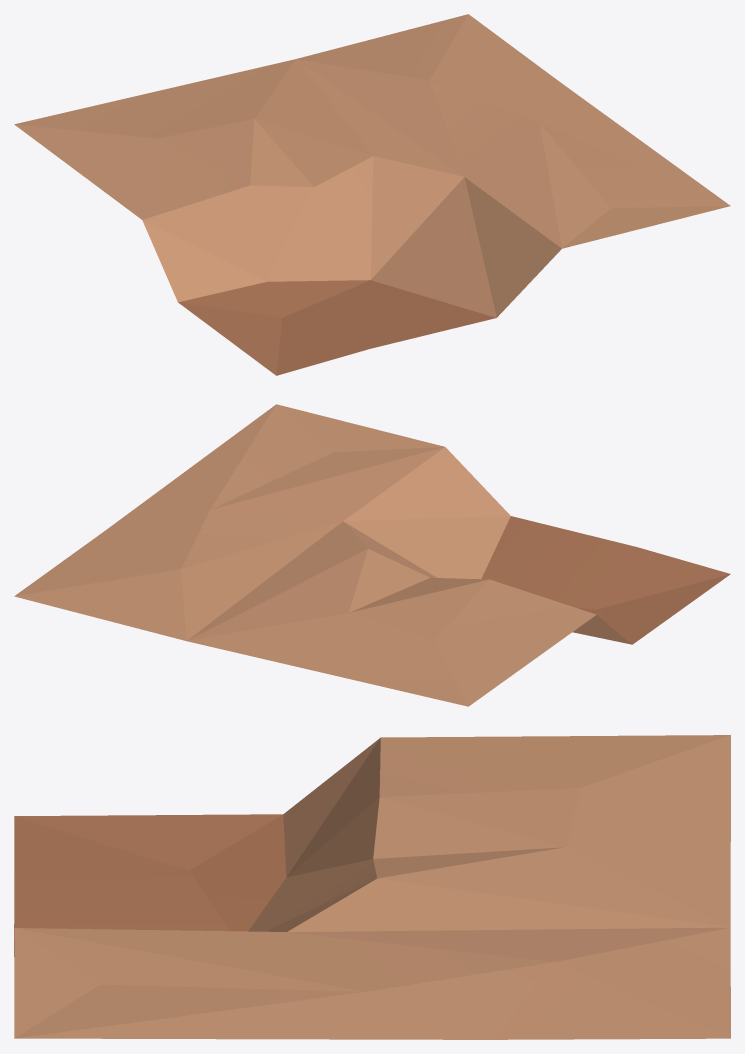
Rendered from SM_ground_06.glb.
3 renders of one model, top to bottom at view 1: azimuth 30°, elevation 25°; view 2: azimuth 150°, elevation 25°; view 3: azimuth 270°, elevation 25°, orthographic. The views are drawn at different scales.
Visible parts, largest first — view 1: SM_ground_06; view 2: SM_ground_06; view 3: SM_ground_06.
Boxes of the visible parts, bbox=[...] form: SM_ground_06: bbox=[14, 14, 730, 375]; SM_ground_06: bbox=[14, 404, 730, 706]; SM_ground_06: bbox=[14, 735, 730, 1039].
Bounding box in the file's own units: 8 × 1.25 × 8.
Materials: 1 (1 with a texture image).
